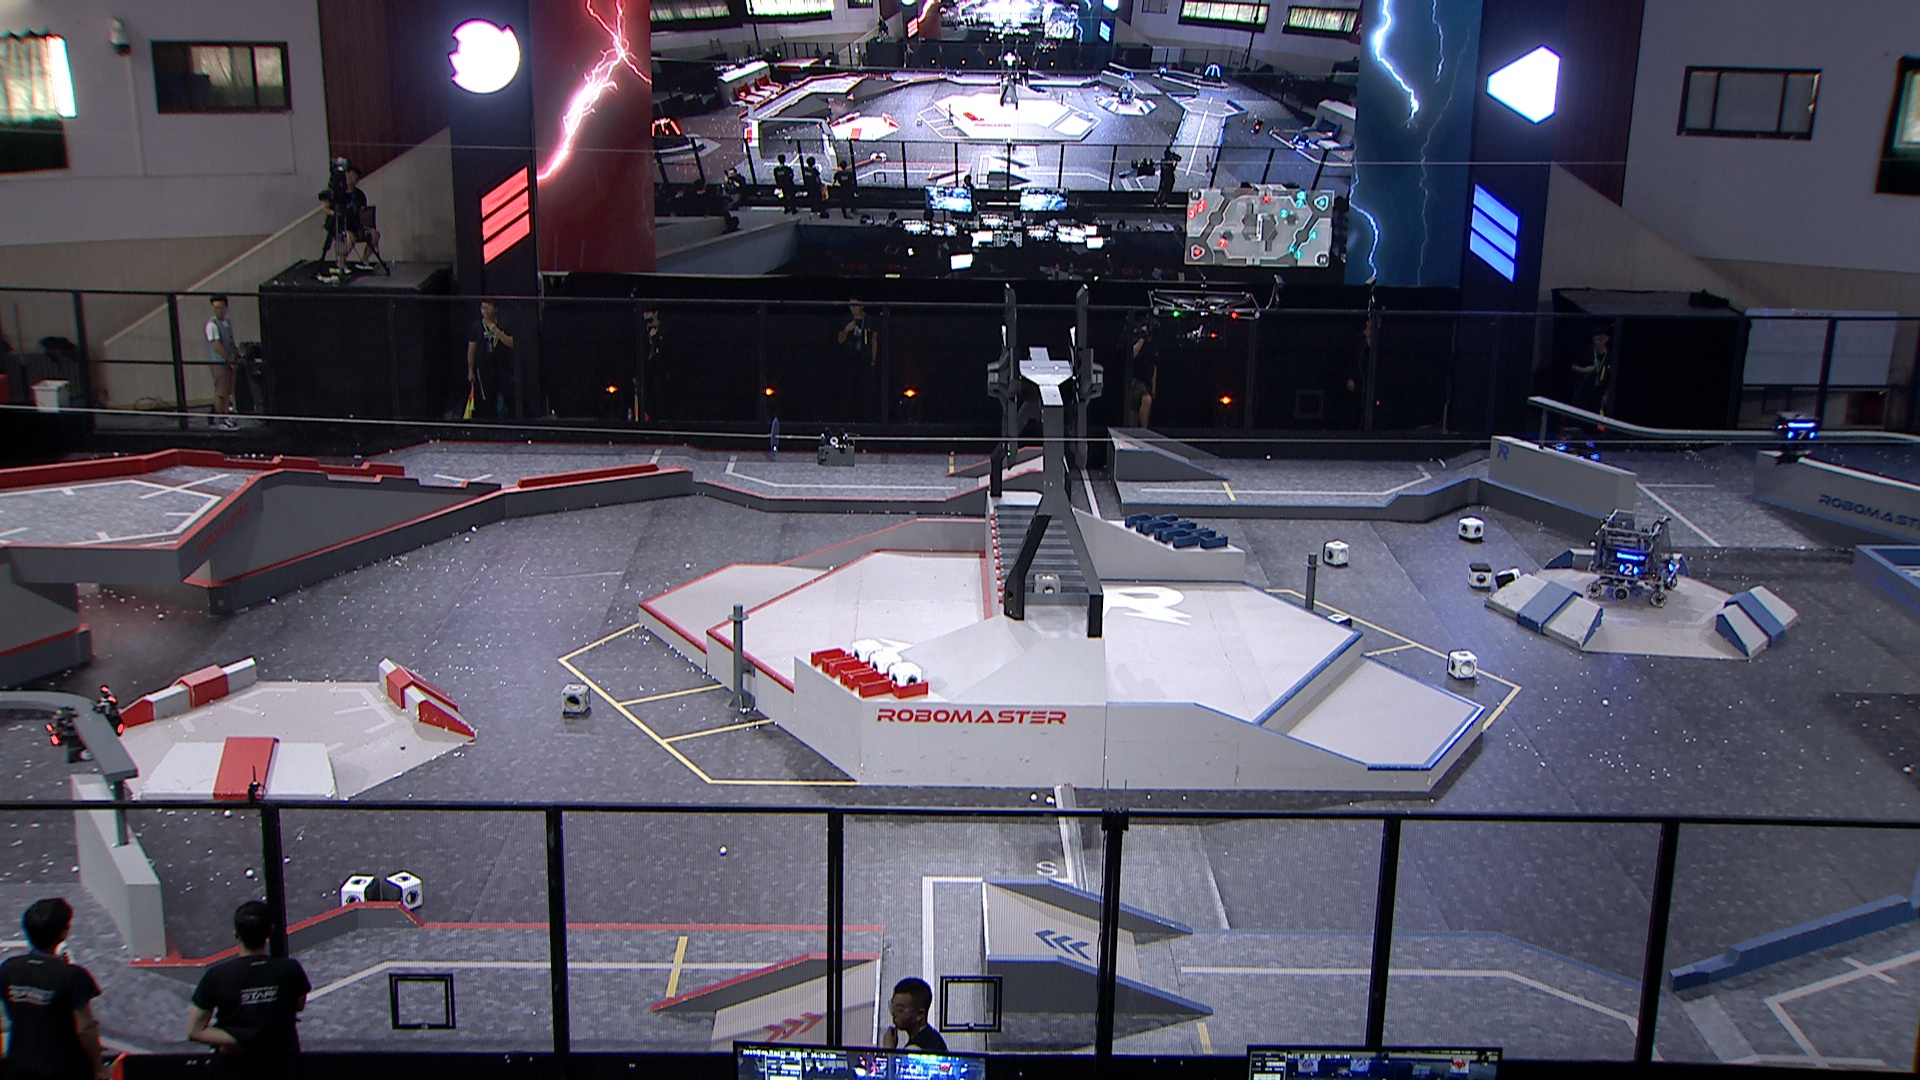armor: (40, 719, 65, 752), (1784, 429, 1815, 443), (1617, 560, 1642, 578), (1548, 434, 1569, 454), (1665, 556, 1681, 576)
car: (1581, 506, 1687, 608), (1544, 423, 1604, 471)
ignore: (647, 113, 690, 153), (1200, 61, 1225, 84), (1287, 128, 1311, 150), (1116, 84, 1135, 107)
watcher: (38, 683, 131, 761), (1768, 409, 1816, 469)
